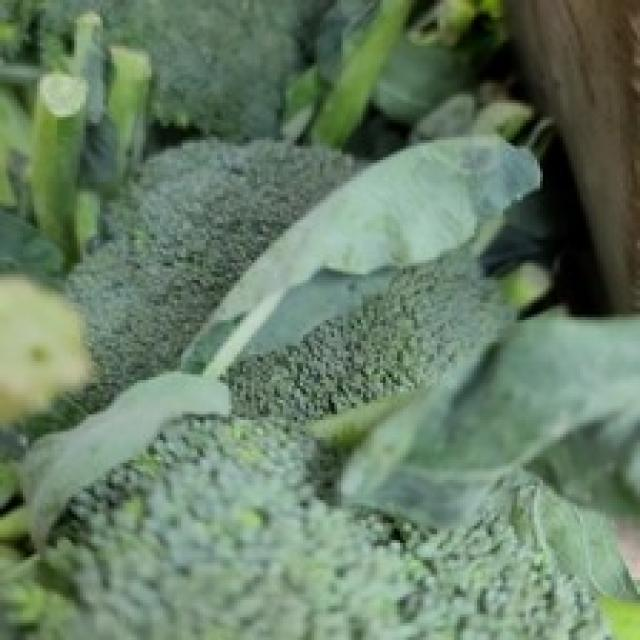Broccoli: (0, 258, 631, 640), (2, 255, 604, 640), (54, 140, 354, 424), (62, 140, 354, 416)
